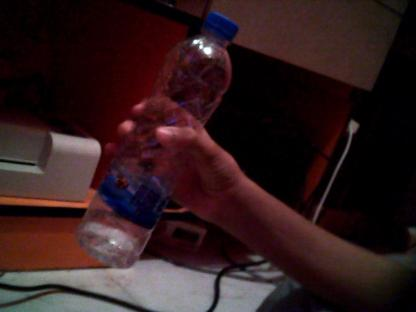Plastic Bottle: (80, 8, 250, 260)
